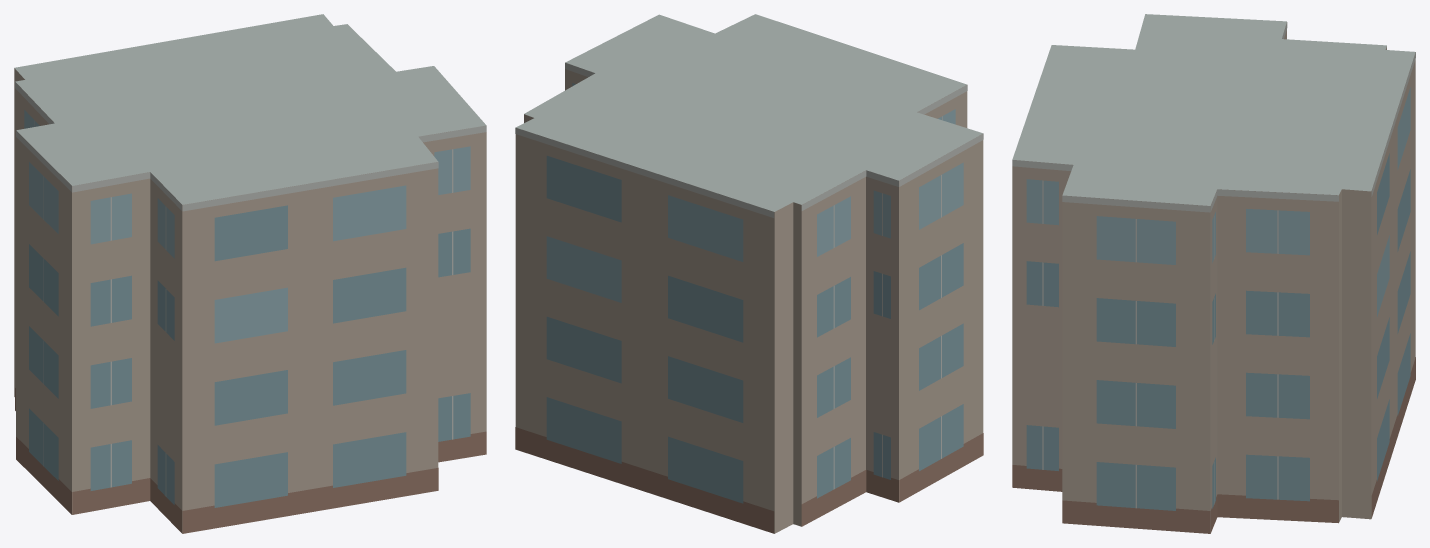
Rendered from survey-upis-32661591.glb.
3 views of the same model, side by side, from view 1: azimuth 30°, elevation 25°; view 2: azimuth 150°, elevation 25°; view 3: azimuth 270°, elevation 25° (orthographic). The views are drawn at different scales.
Visible parts, largest first — view 1: survey-upis-32661591.tmp; view 2: survey-upis-32661591.tmp; view 3: survey-upis-32661591.tmp.
Boxes of the visible parts, x1,y1,x2,y2 form: survey-upis-32661591.tmp: (14,14,486,533); survey-upis-32661591.tmp: (515,14,983,533); survey-upis-32661591.tmp: (1012,14,1415,533).
Bounding box in the file's own units: 15.33 × 12.2 × 13.61.
